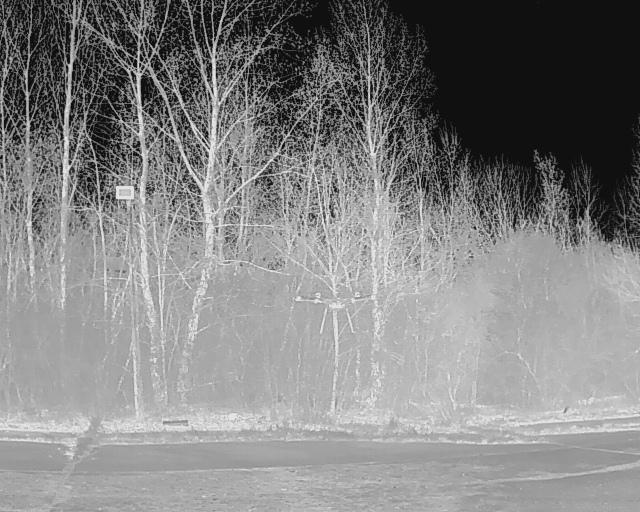drone: (291, 281, 385, 345)
